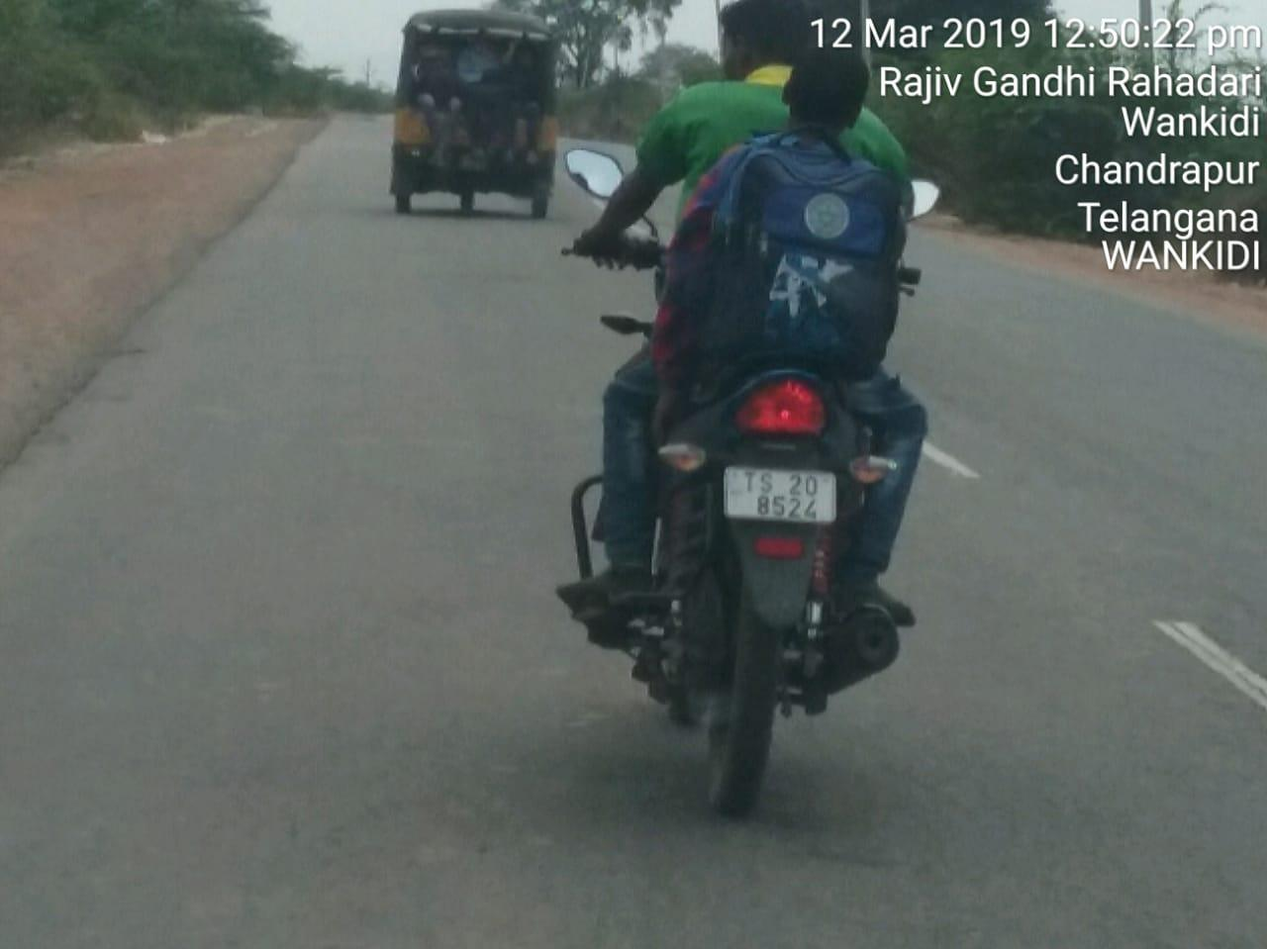plate: (710, 460, 852, 531)
